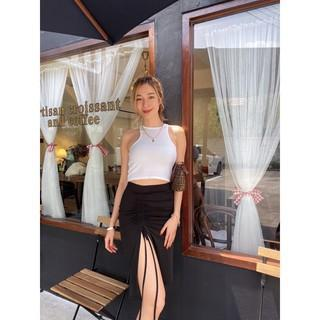skirt: (101, 183, 179, 320)
